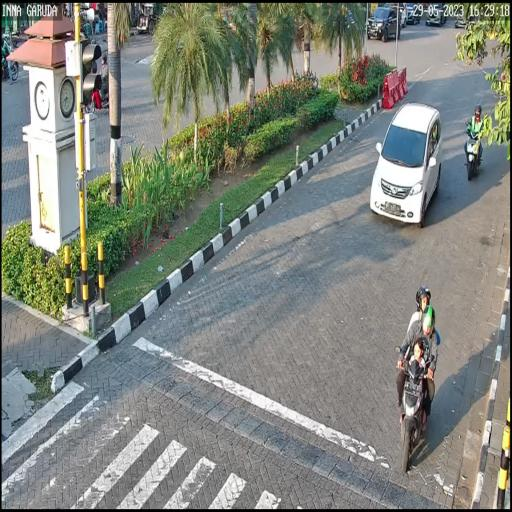mobil: (370, 106, 444, 218)
motor: (394, 342, 438, 472), (464, 120, 486, 182)
